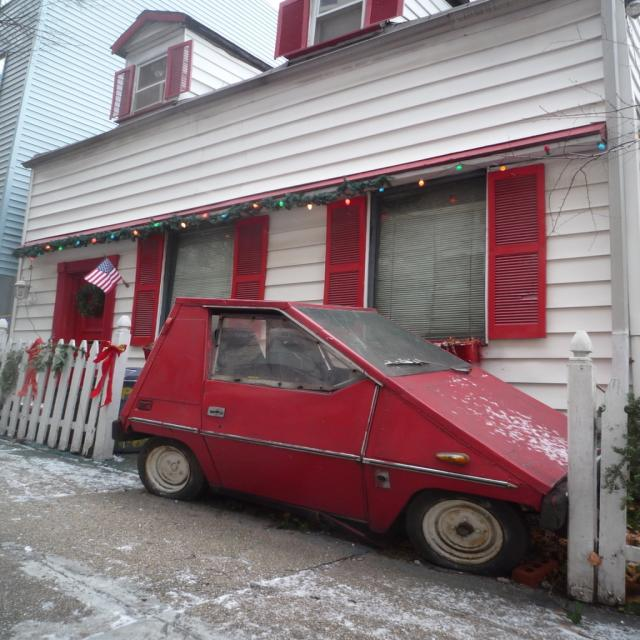car: (115, 305, 556, 573)
